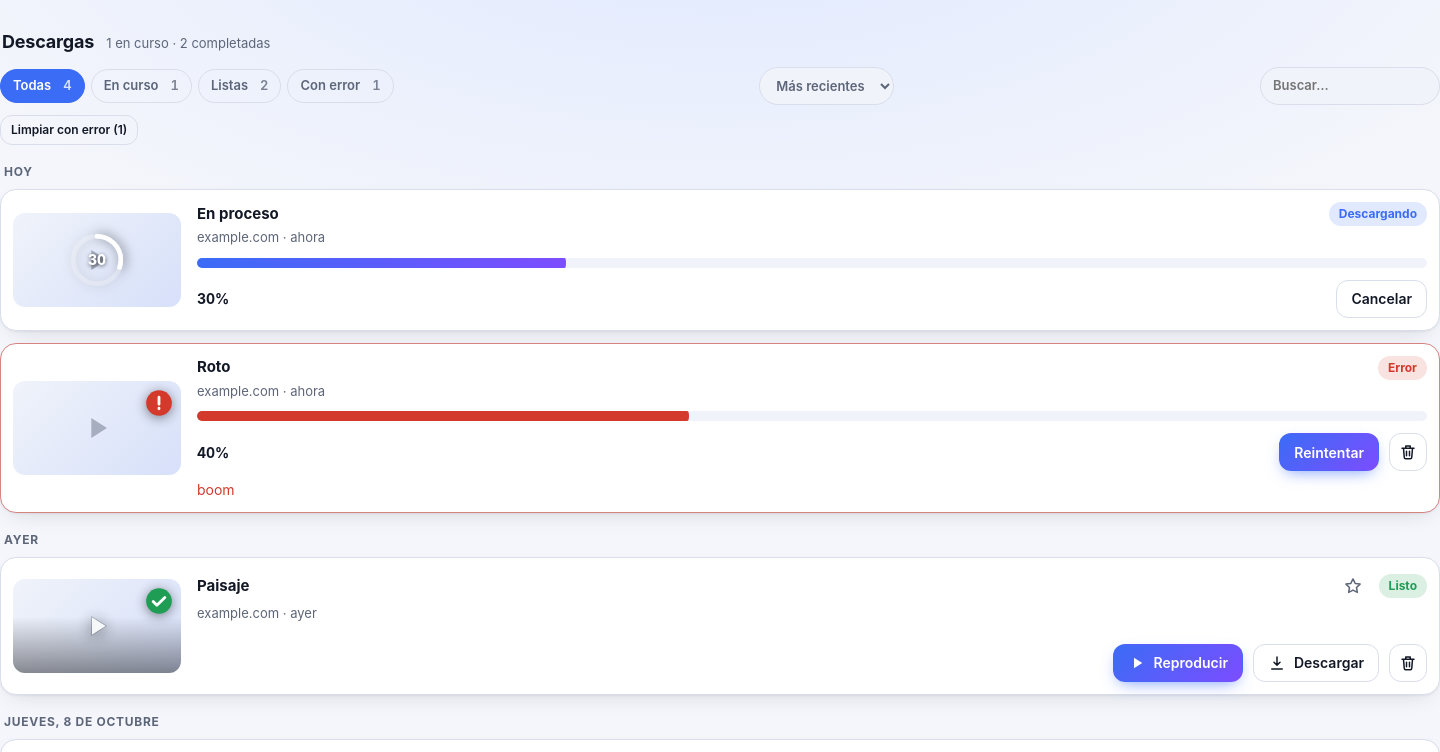
Test case: JobList: filtros, búsqueda y grupos › 'Limpiar con error' pide confirmación y elimina solo los fallidos
Expected: the heading "Roto" is shown, [197, 356, 230, 379]
What coordinates should you click on to do the following:
click the button "Limpiar con error (1)"
I would click on:
 (69, 130)
Its box is [0, 115, 138, 145].
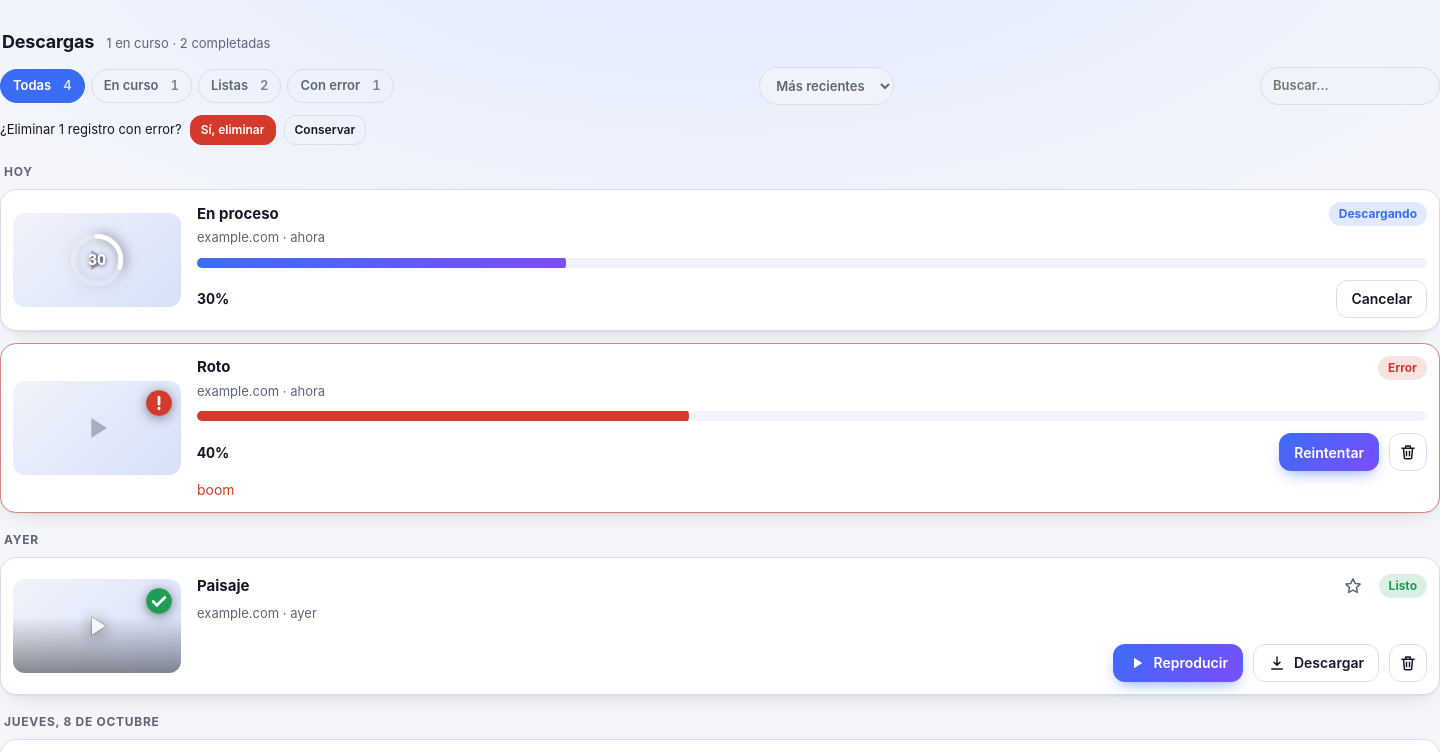
Expected: the text "¿Eliminar 1 registro con error?" is shown, [0, 120, 182, 140]
What coordinates should you click on to do the following:
click the button "Conservar"
I would click on:
 (325, 130)
Its box is [284, 115, 366, 145].
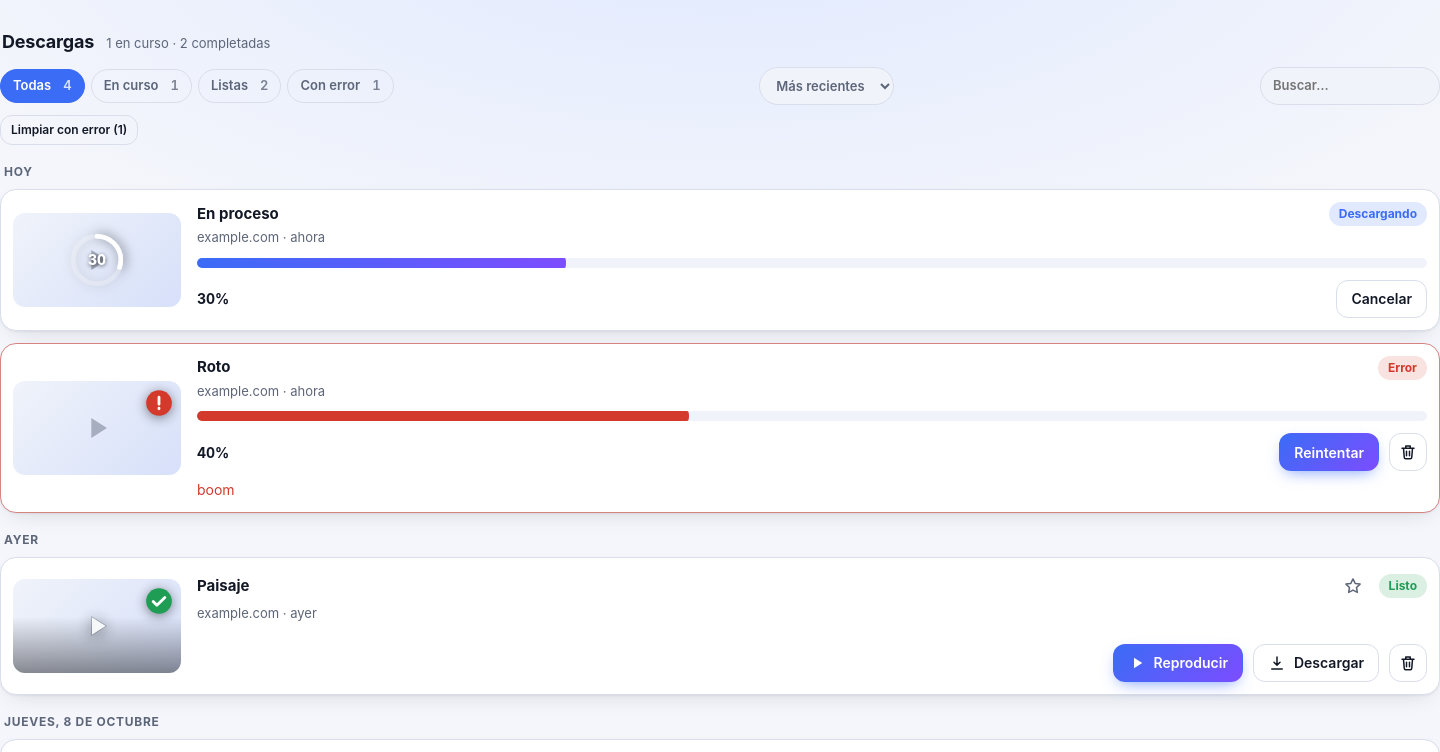
What coordinates should you click on to do the following:
click the button "Limpiar con error (1)"
I would click on:
 (69, 130)
Its box is [0, 115, 138, 145].
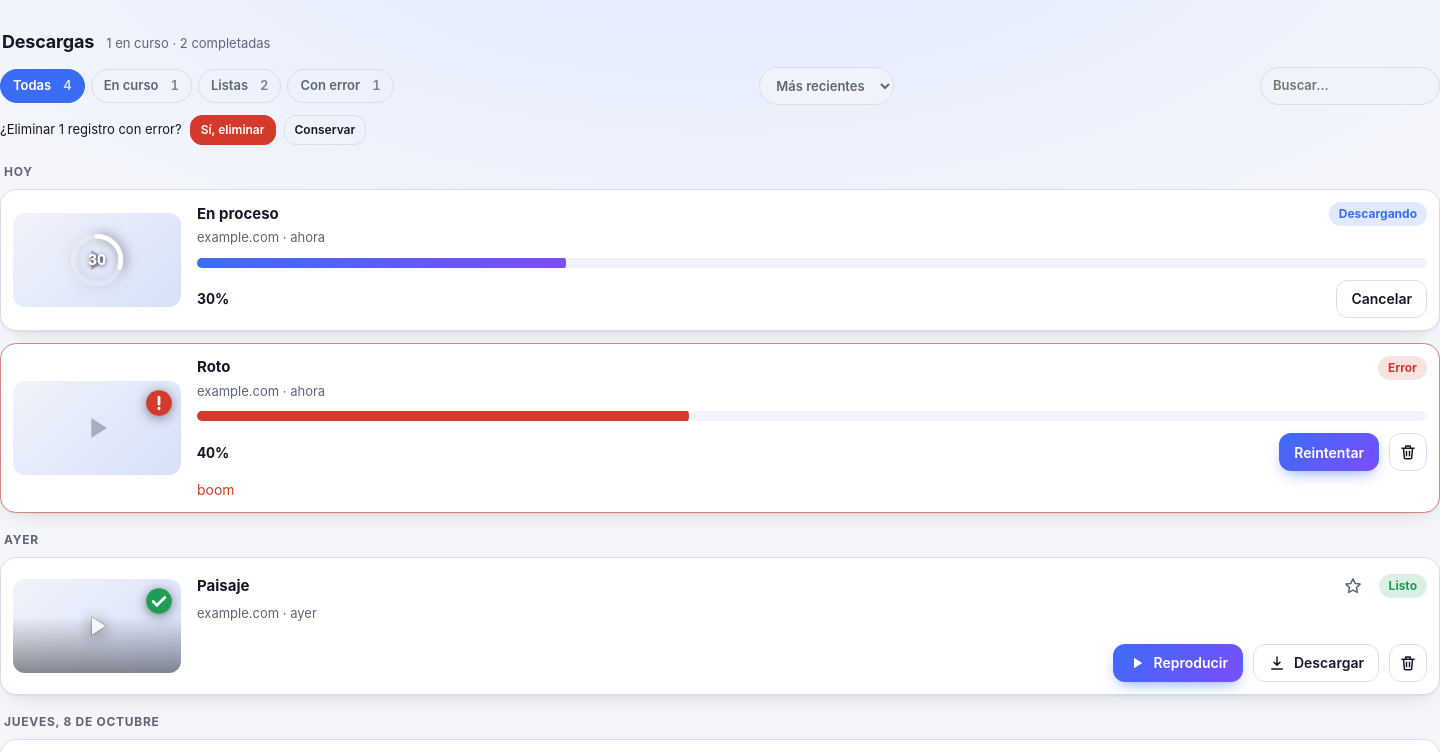
What coordinates should you click on to do the following:
click the button "Sí, eliminar"
I would click on:
 (233, 130)
Its box is [190, 115, 276, 145].
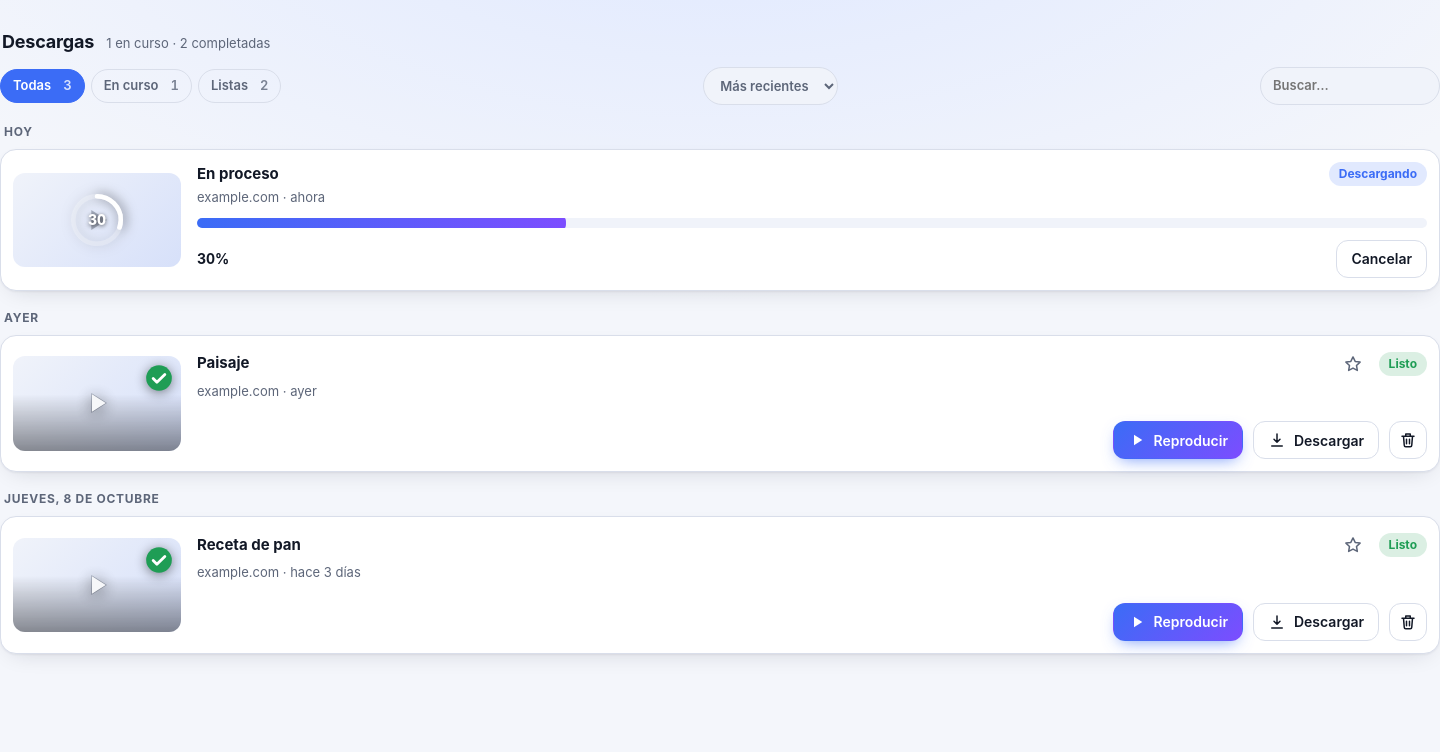
Expected: the heading "Paisaje" is shown, [197, 352, 249, 375]
Expected: the heading "Roto" is gone
